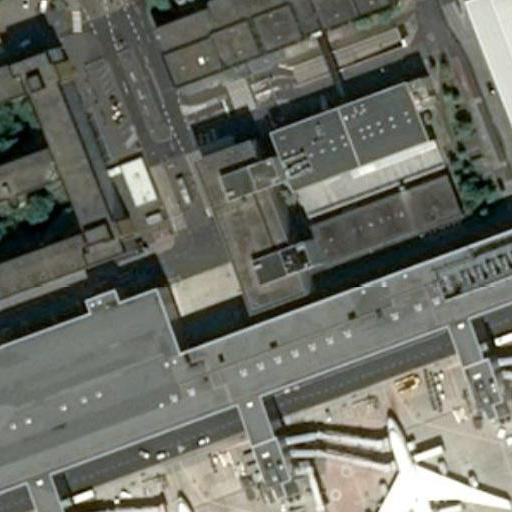Aircraft: (344, 410, 508, 512), (348, 409, 508, 512), (131, 485, 289, 512), (129, 490, 287, 512)
